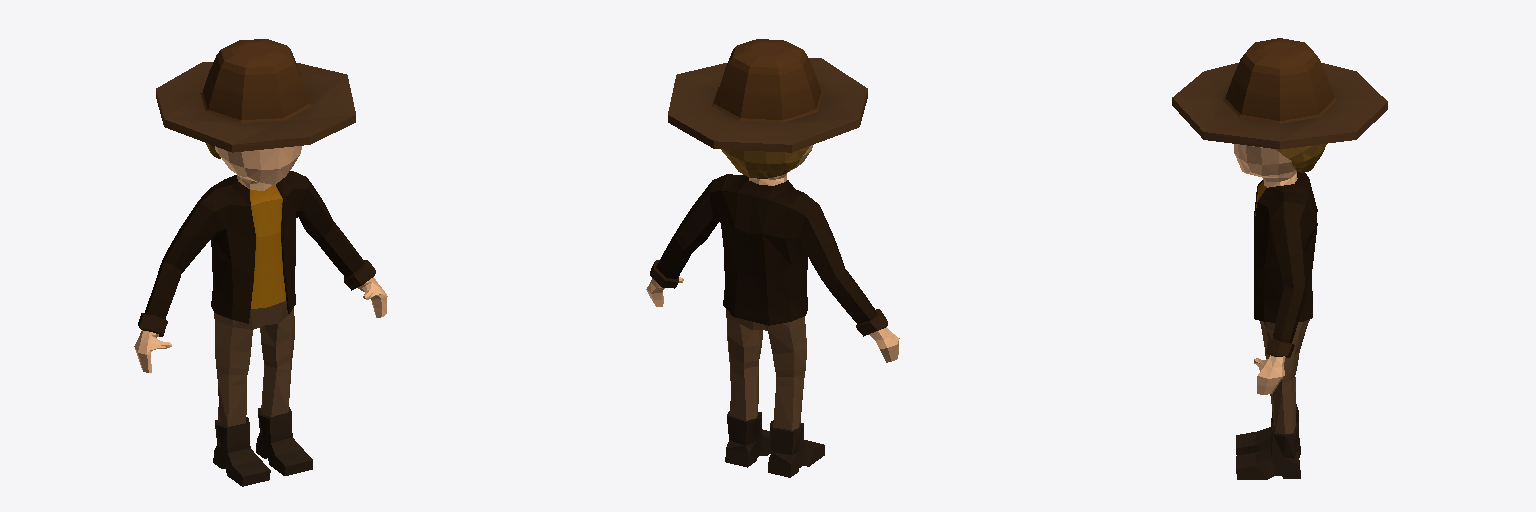
The picture shows the model from 3 angles: view 1: azimuth 30°, elevation 25°; view 2: azimuth 150°, elevation 25°; view 3: azimuth 270°, elevation 25°; orthographic projection.
Visible parts, largest first — view 1: Cube; view 2: Cube; view 3: Cube.
Part boxes in pixels (x1,y1,x2,y2): Cube: (134, 39, 387, 486); Cube: (646, 39, 899, 477); Cube: (1172, 38, 1387, 479).
Bounding box in the file's own units: 9.64 × 15.38 × 7.29.
1 materials, 1 textured.